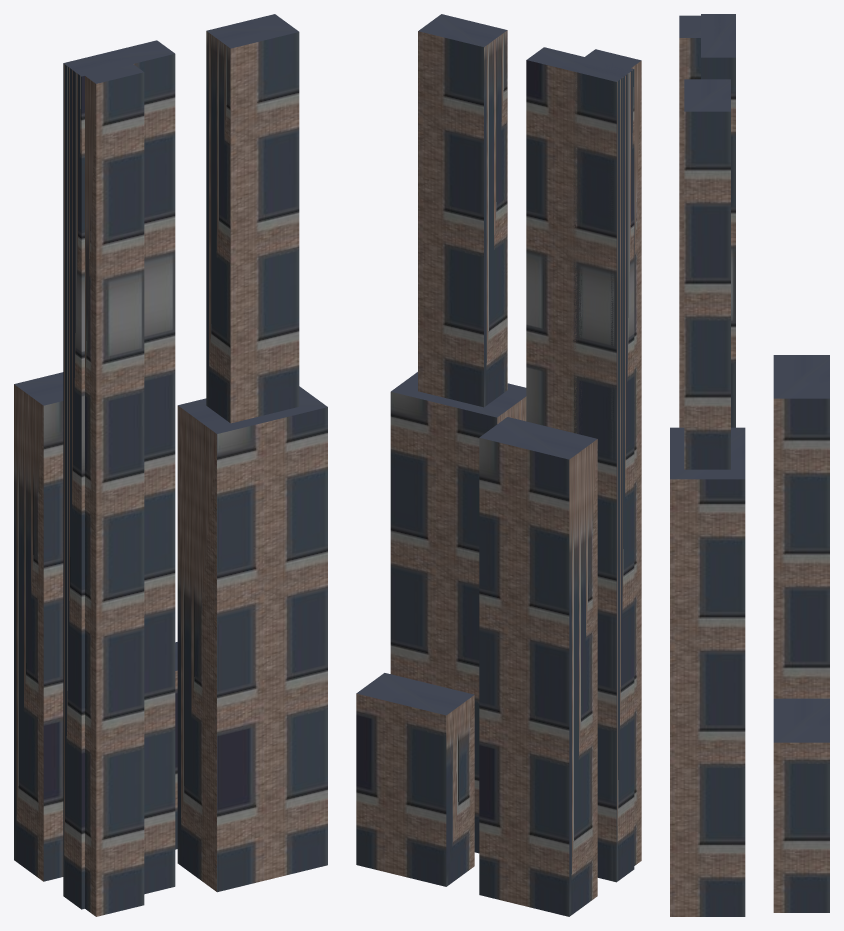
The model's file is block_13.obj.
3 views of the same model, side by side, from view 1: azimuth 30°, elevation 25°; view 2: azimuth 150°, elevation 25°; view 3: azimuth 270°, elevation 25° (orthographic). The views are drawn at different scales.
Visible parts, largest first — view 1: b3, b1, b0; view 2: b1, b3, b0, b2; view 3: b3, b0, b2, b1.
Part boxes in pixels (bbox=[...]): b3: bbox=[177, 14, 327, 892]; b1: bbox=[63, 40, 175, 916]; b0: bbox=[14, 372, 63, 881]; b1: bbox=[526, 47, 641, 882]; b3: bbox=[390, 14, 526, 853]; b0: bbox=[479, 417, 597, 916]; b2: bbox=[356, 673, 474, 886]; b3: bbox=[670, 79, 745, 916]; b0: bbox=[773, 355, 829, 698]; b2: bbox=[773, 698, 829, 912]; b1: bbox=[679, 14, 735, 427].
Size of the model in its own units: 4.05 by 14 by 2.55.
